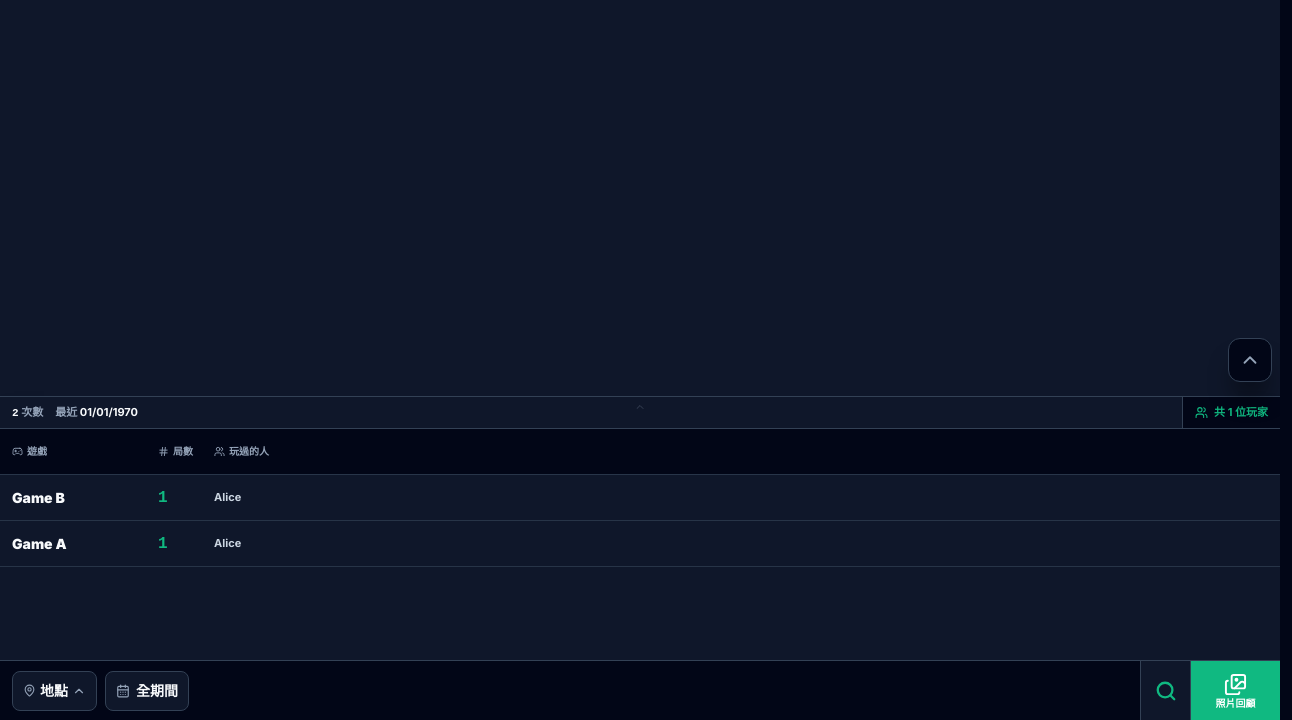
Test case: HistoryStatsPanel navigation › returns to the overview tab that opened the detail flow
Step 1. Click the button titled "切換至玩家總覽" → (1231, 412), box [1182,397,1280,428]
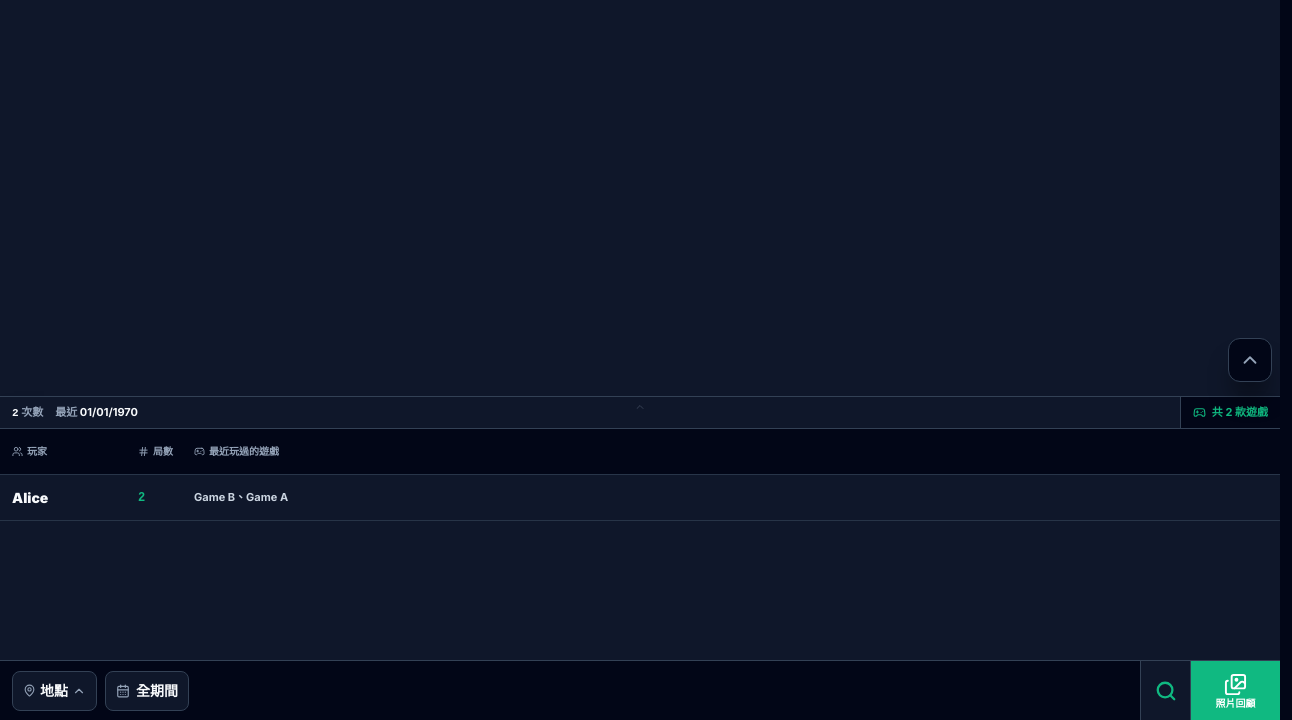
Now the button titled "切換至遊戲總覽" is shown, box [1180,397,1280,428]
Now the text "Game B、Game A" is shown, box [194,489,288,506]
Step 2. Click the heading "Alice" → (65, 498), box [0,481,130,514]
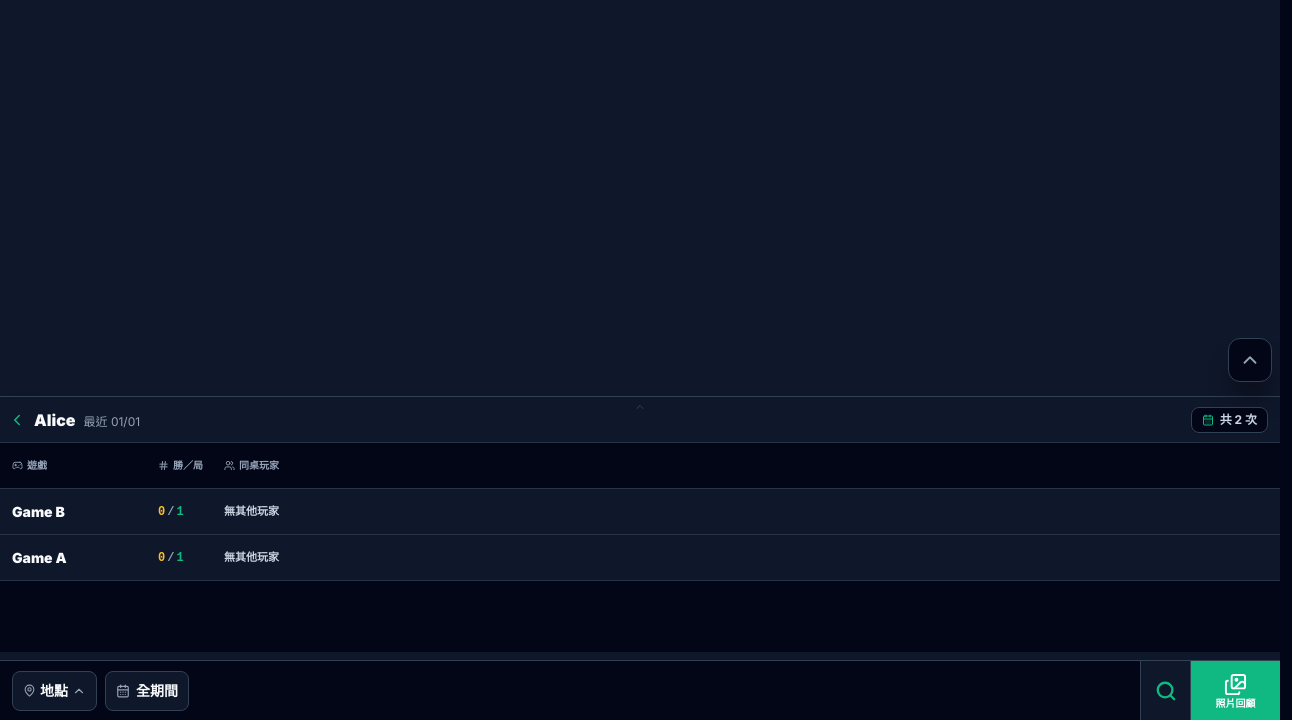
Step 3. Click the heading "Game A" → (75, 558), box [0,541,150,574]
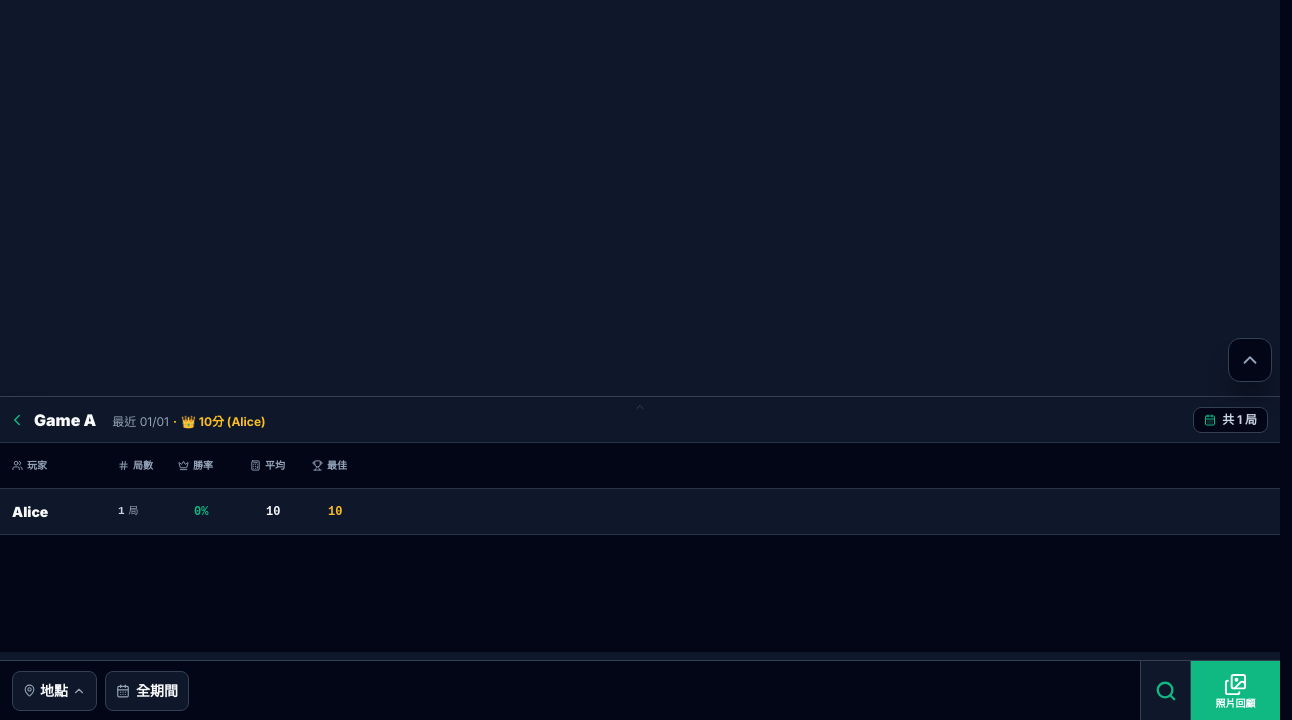
Step 4. Click the text "Game A" → (65, 420), box [34,408,96,432]
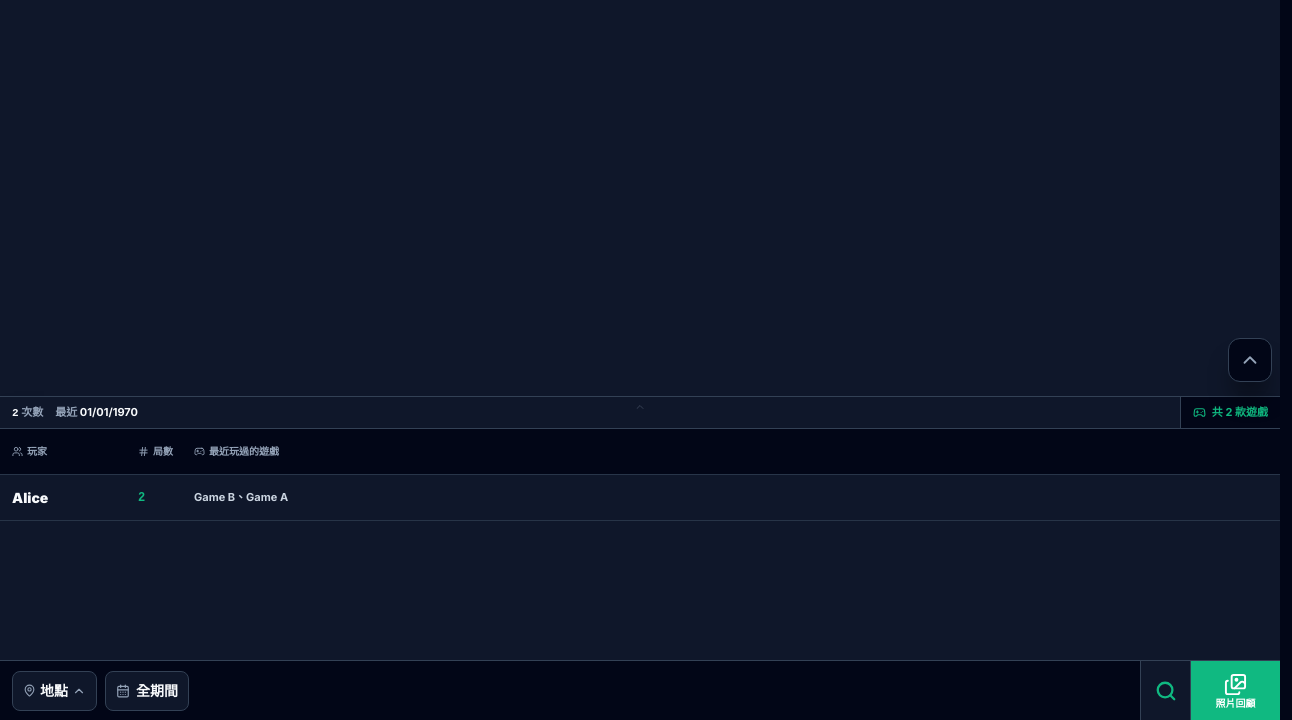
Expected: the heading "Alice" is shown, [0,481,130,514]
Now the button titled "切換至遊戲總覽" is shown, box [1180,397,1280,428]
